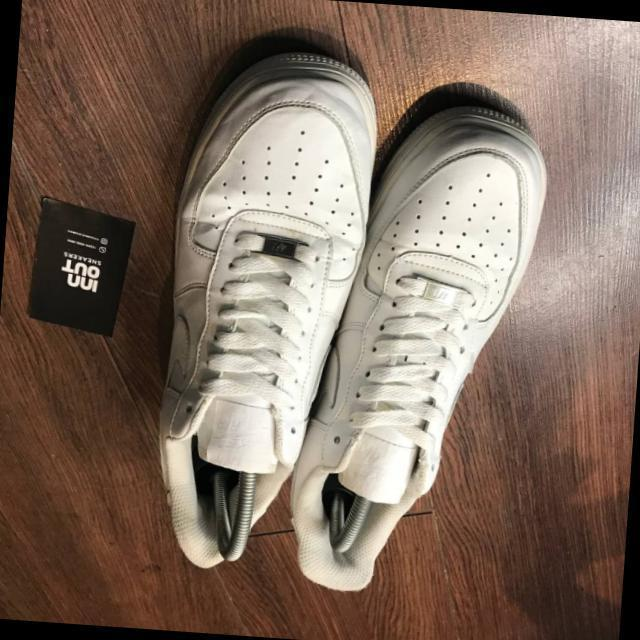nike fake air force: (276, 88, 552, 602), (133, 39, 381, 588)
